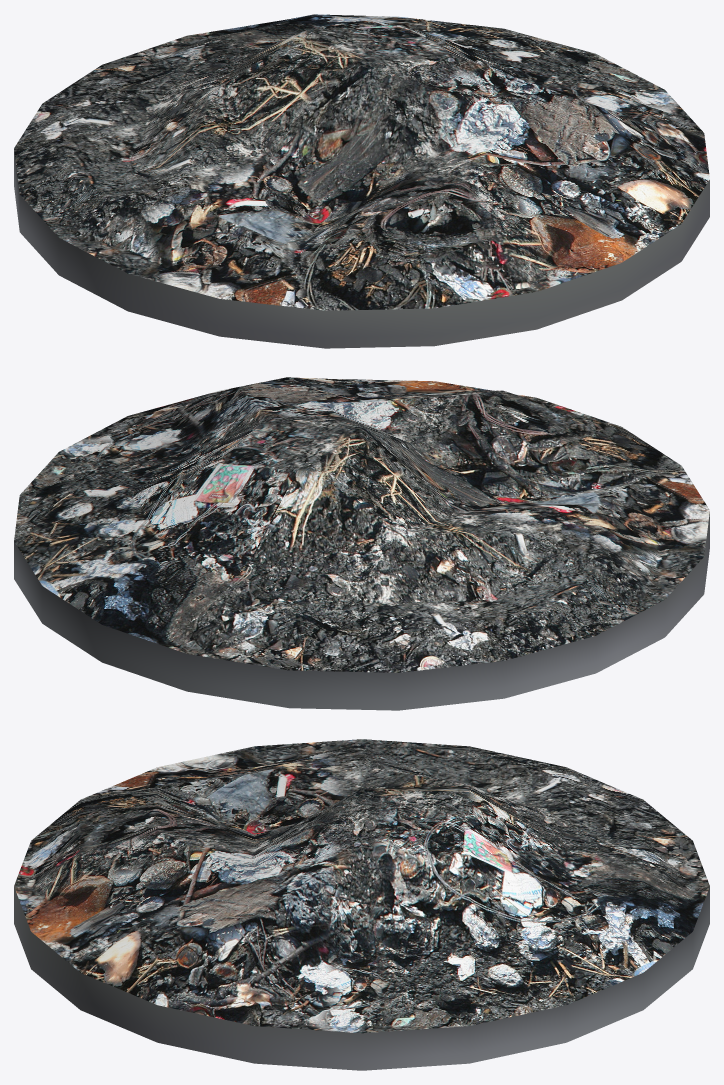
Rendered from garbage.fbx.
3 views of the same model, one above another, from view 1: azimuth 30°, elevation 25°; view 2: azimuth 150°, elevation 25°; view 3: azimuth 270°, elevation 25° (orthographic).
Parts seen in each view (by area): view 1: garbage; view 2: garbage; view 3: garbage.
Boxes of the visible parts, box(x1,y1,x2,y2) form: garbage: box(14, 14, 709, 348); garbage: box(14, 377, 709, 710); garbage: box(14, 739, 709, 1070).
Bounding box in the file's own units: 76.04 × 16.23 × 76.04.
